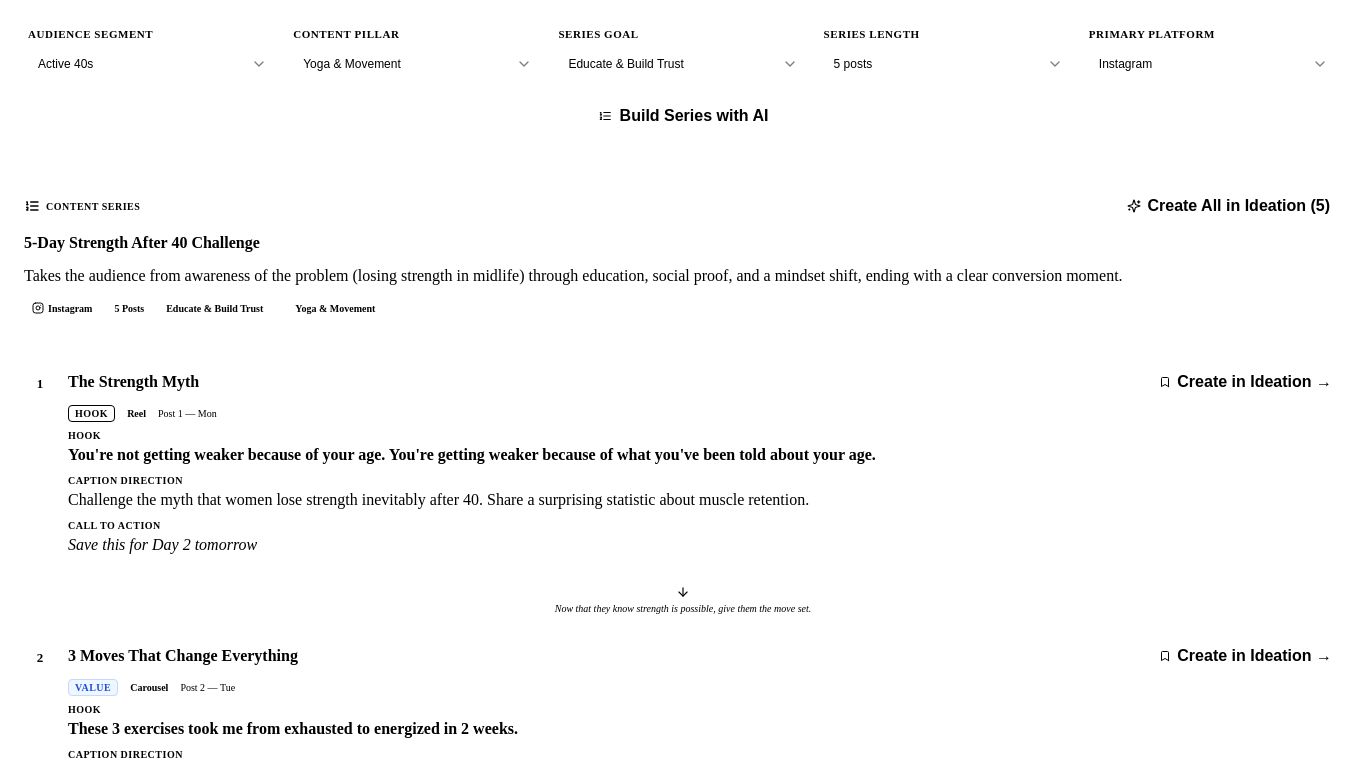
Scenario: SeriesBuilderComponent › renders the series overview with badges and Create All button
The image size is (1366, 766).
Expected: the element with class "series-overview" is shown, x1=8 y1=174 x2=1358 y2=332
Expected: the element with class "series-badge" showing "instagram" is shown, x1=32 y1=302 x2=92 y2=314
Step 1. Click the button with class "btn-create-all" → (1229, 206), box x1=1116 y1=190 x2=1342 y2=222
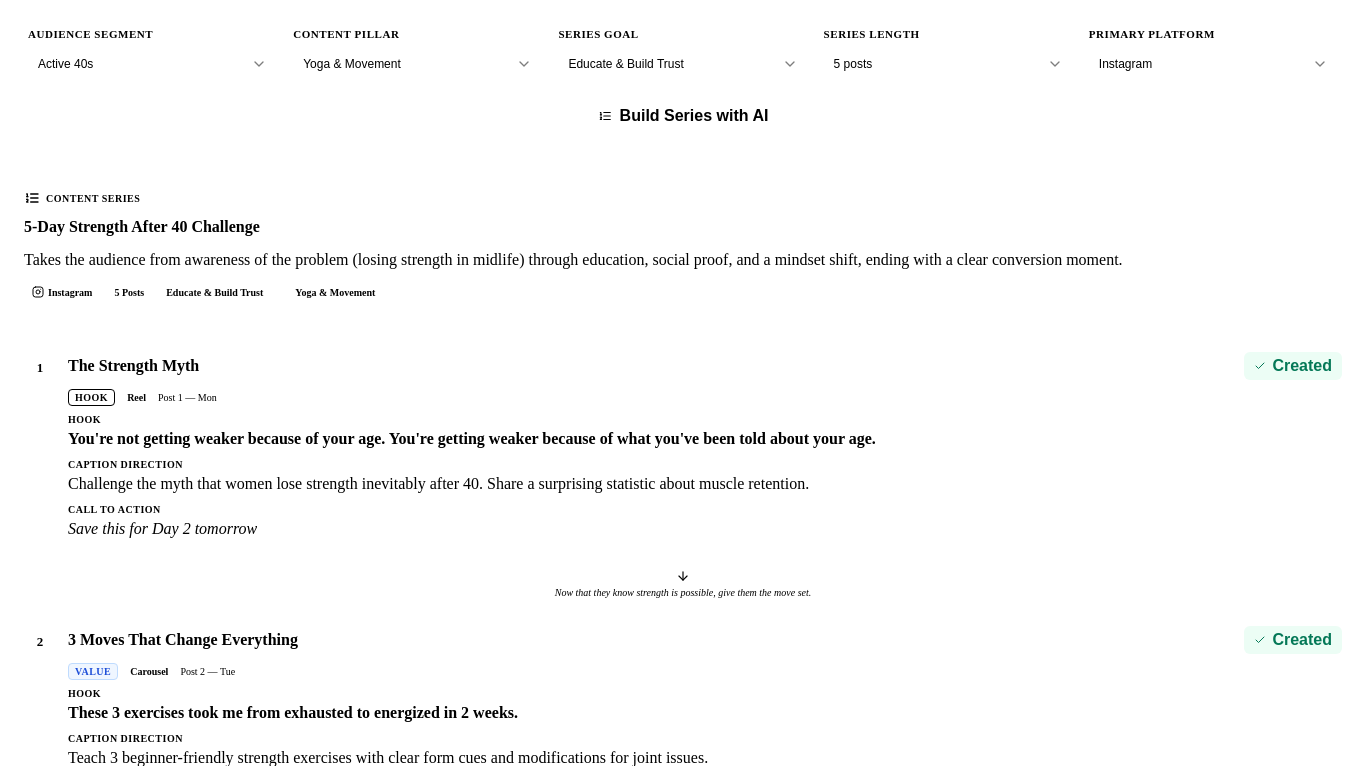
Expected: the button with class "btn-create-all" is gone
